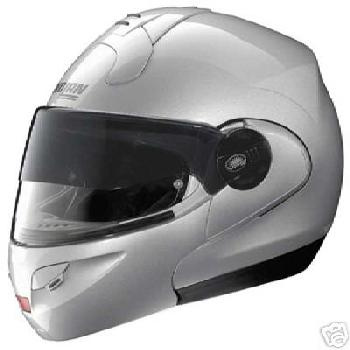helmet: (27, 8, 325, 310)
